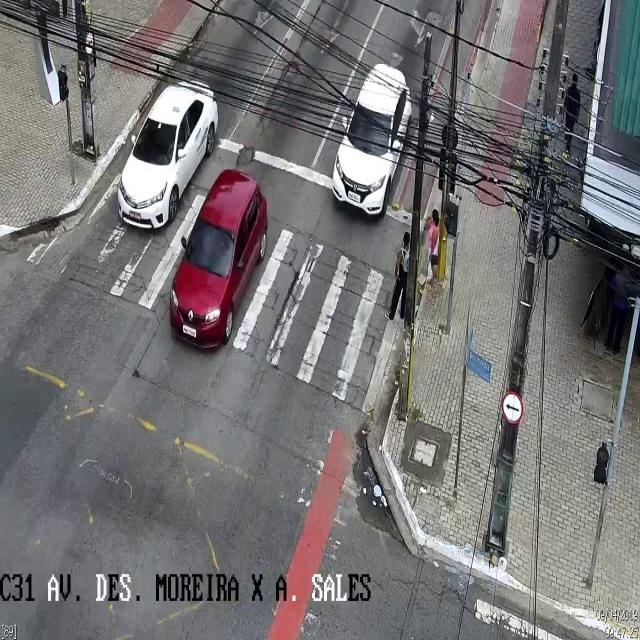Car: (168, 170, 269, 350), (118, 75, 218, 228), (330, 63, 410, 216)
